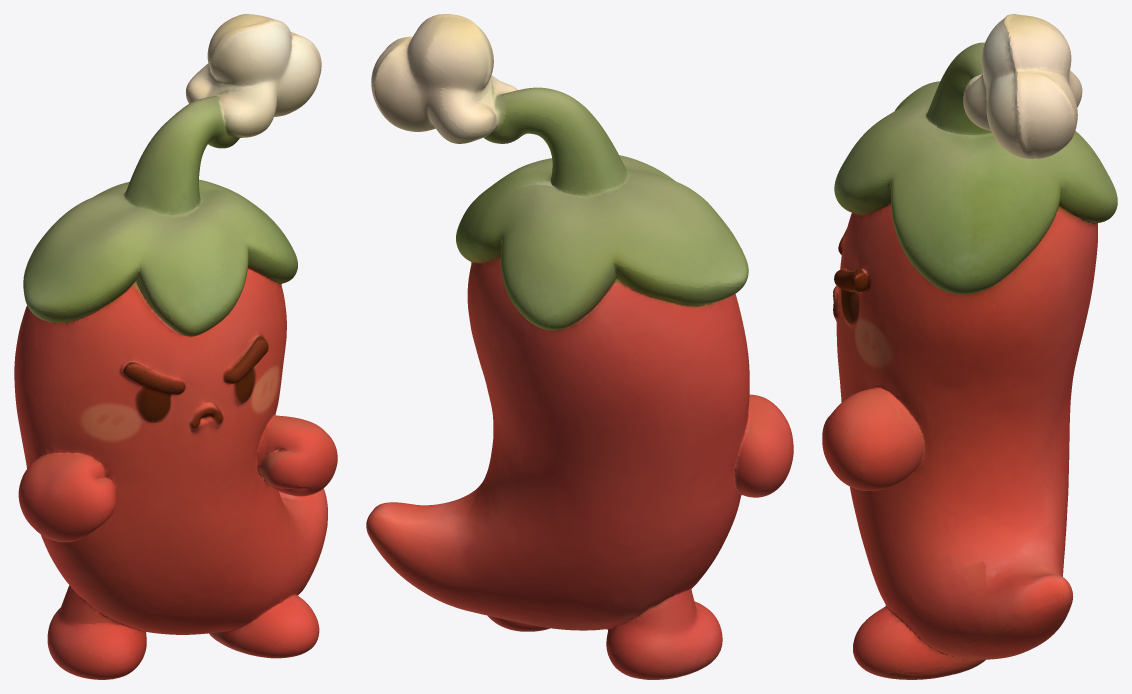
The picture shows the model from 3 angles, left to right: view 1: azimuth 30°, elevation 25°; view 2: azimuth 150°, elevation 25°; view 3: azimuth 270°, elevation 25°; orthographic projection. The views are drawn at different scales.
Parts seen in each view (by area): view 1: geometry_0; view 2: geometry_0; view 3: geometry_0.
Boxes of the visible parts, x1,y1,x2,y2 form: geometry_0: [14, 14, 337, 679]; geometry_0: [366, 14, 793, 679]; geometry_0: [822, 14, 1117, 679].
Bounding box in the file's own units: 0.074 × 0.12 × 0.0487.
Materials: 1 (1 with a texture image).
